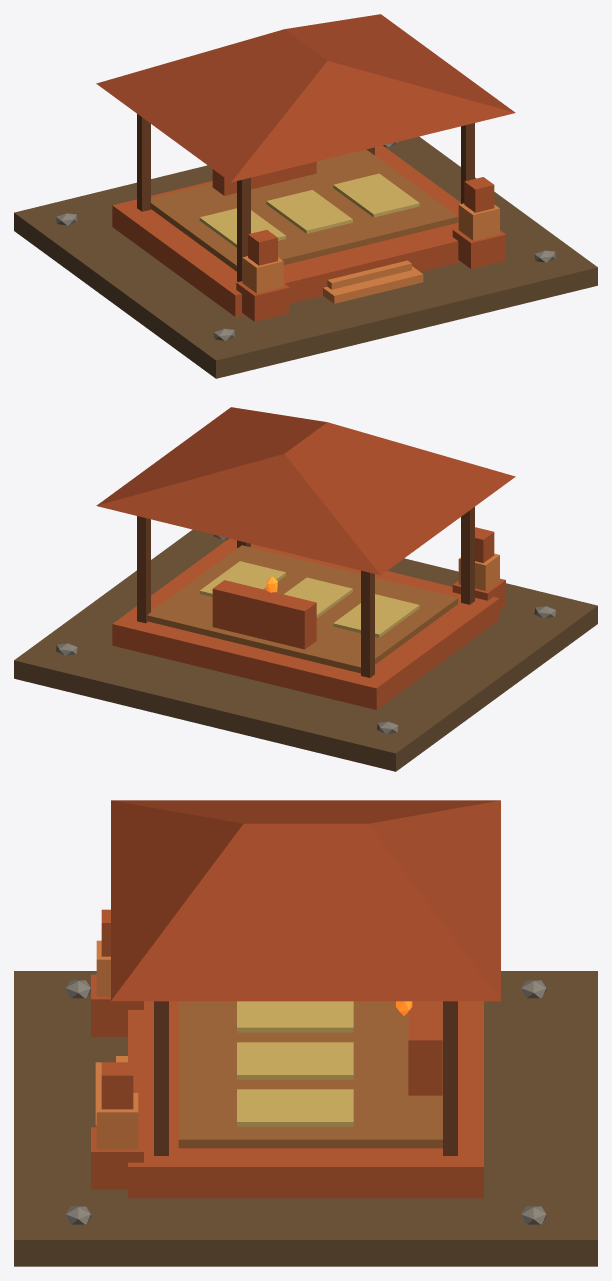
File: small_padepokan.glb
The picture shows the model from 3 angles, top to bottom: view 1: azimuth 30°, elevation 25°; view 2: azimuth 150°, elevation 25°; view 3: azimuth 270°, elevation 25°; orthographic projection. The views are drawn at different scales.
Parts seen in each view (by area): view 1: PadepokanRoof, Building_Base, MeditationFloor, PadepokanFloor, MeditationMat.002, MeditationMat.001, BrickStep, EntryGate, EntryGate.003, PadepokanPost.001, MeditationMat, RearAltar (+7 smaller); view 2: Building_Base, PadepokanRoof, PadepokanFloor, MeditationFloor, RearAltar, MeditationMat, PadepokanPost.001, PadepokanPost.003, MeditationMat.001, PadepokanPost, MeditationMat.002, EntryGate.001 (+2 smaller); view 3: Building_Base, PadepokanRoof, PadepokanFloor, MeditationFloor, MeditationMat.001, MeditationMat.002, MeditationMat, RearAltar, PadepokanPost.002, PadepokanPost.003, EntryGate.003, EntryGate.004 (+3 smaller).
Boxes of the visible parts, x1,y1,x2,y2 form: PadepokanRoof: [96, 14, 515, 182]; Building_Base: [14, 136, 597, 378]; MeditationFloor: [150, 149, 458, 271]; PadepokanFloor: [112, 145, 460, 316]; MeditationMat.002: [333, 173, 419, 217]; MeditationMat.001: [266, 190, 352, 233]; BrickStep: [323, 266, 423, 303]; EntryGate: [236, 281, 289, 321]; EntryGate.003: [452, 228, 505, 268]; PadepokanPost.001: [137, 114, 150, 211]; MeditationMat: [199, 208, 285, 247]; RearAltar: [212, 161, 316, 195]; Building_Base: [14, 529, 597, 771]; PadepokanRoof: [96, 407, 515, 575]; PadepokanFloor: [112, 538, 499, 709]; MeditationFloor: [147, 545, 458, 673]; RearAltar: [212, 580, 316, 649]; MeditationMat: [333, 594, 419, 637]; PadepokanPost.001: [361, 570, 374, 677]; PadepokanPost.003: [137, 516, 150, 623]; MeditationMat.001: [284, 577, 352, 617]; PadepokanPost: [461, 507, 474, 604]; MeditationMat.002: [199, 561, 285, 596]; EntryGate.001: [458, 553, 499, 590]; Building_Base: [14, 971, 597, 1266]; PadepokanRoof: [111, 800, 500, 1001]; PadepokanFloor: [128, 1001, 483, 1198]; MeditationFloor: [178, 1001, 442, 1148]; MeditationMat.001: [237, 1042, 353, 1079]; MeditationMat.002: [237, 1089, 353, 1126]; MeditationMat: [237, 1001, 353, 1032]; RearAltar: [408, 1001, 442, 1095]; PadepokanPost.002: [154, 1001, 168, 1155]; PadepokanPost.003: [443, 1001, 457, 1155]; EntryGate.003: [91, 1127, 143, 1189]; EntryGate.004: [96, 1093, 138, 1149].
Size of the model in its own units: 12 by 6.4 by 11.
